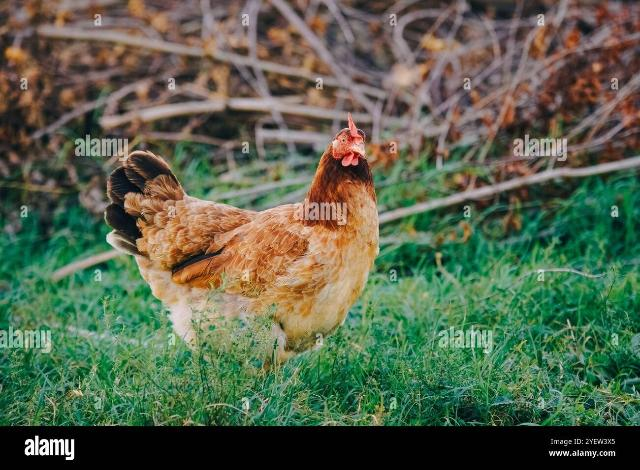Chicken: (105, 110, 381, 373)
